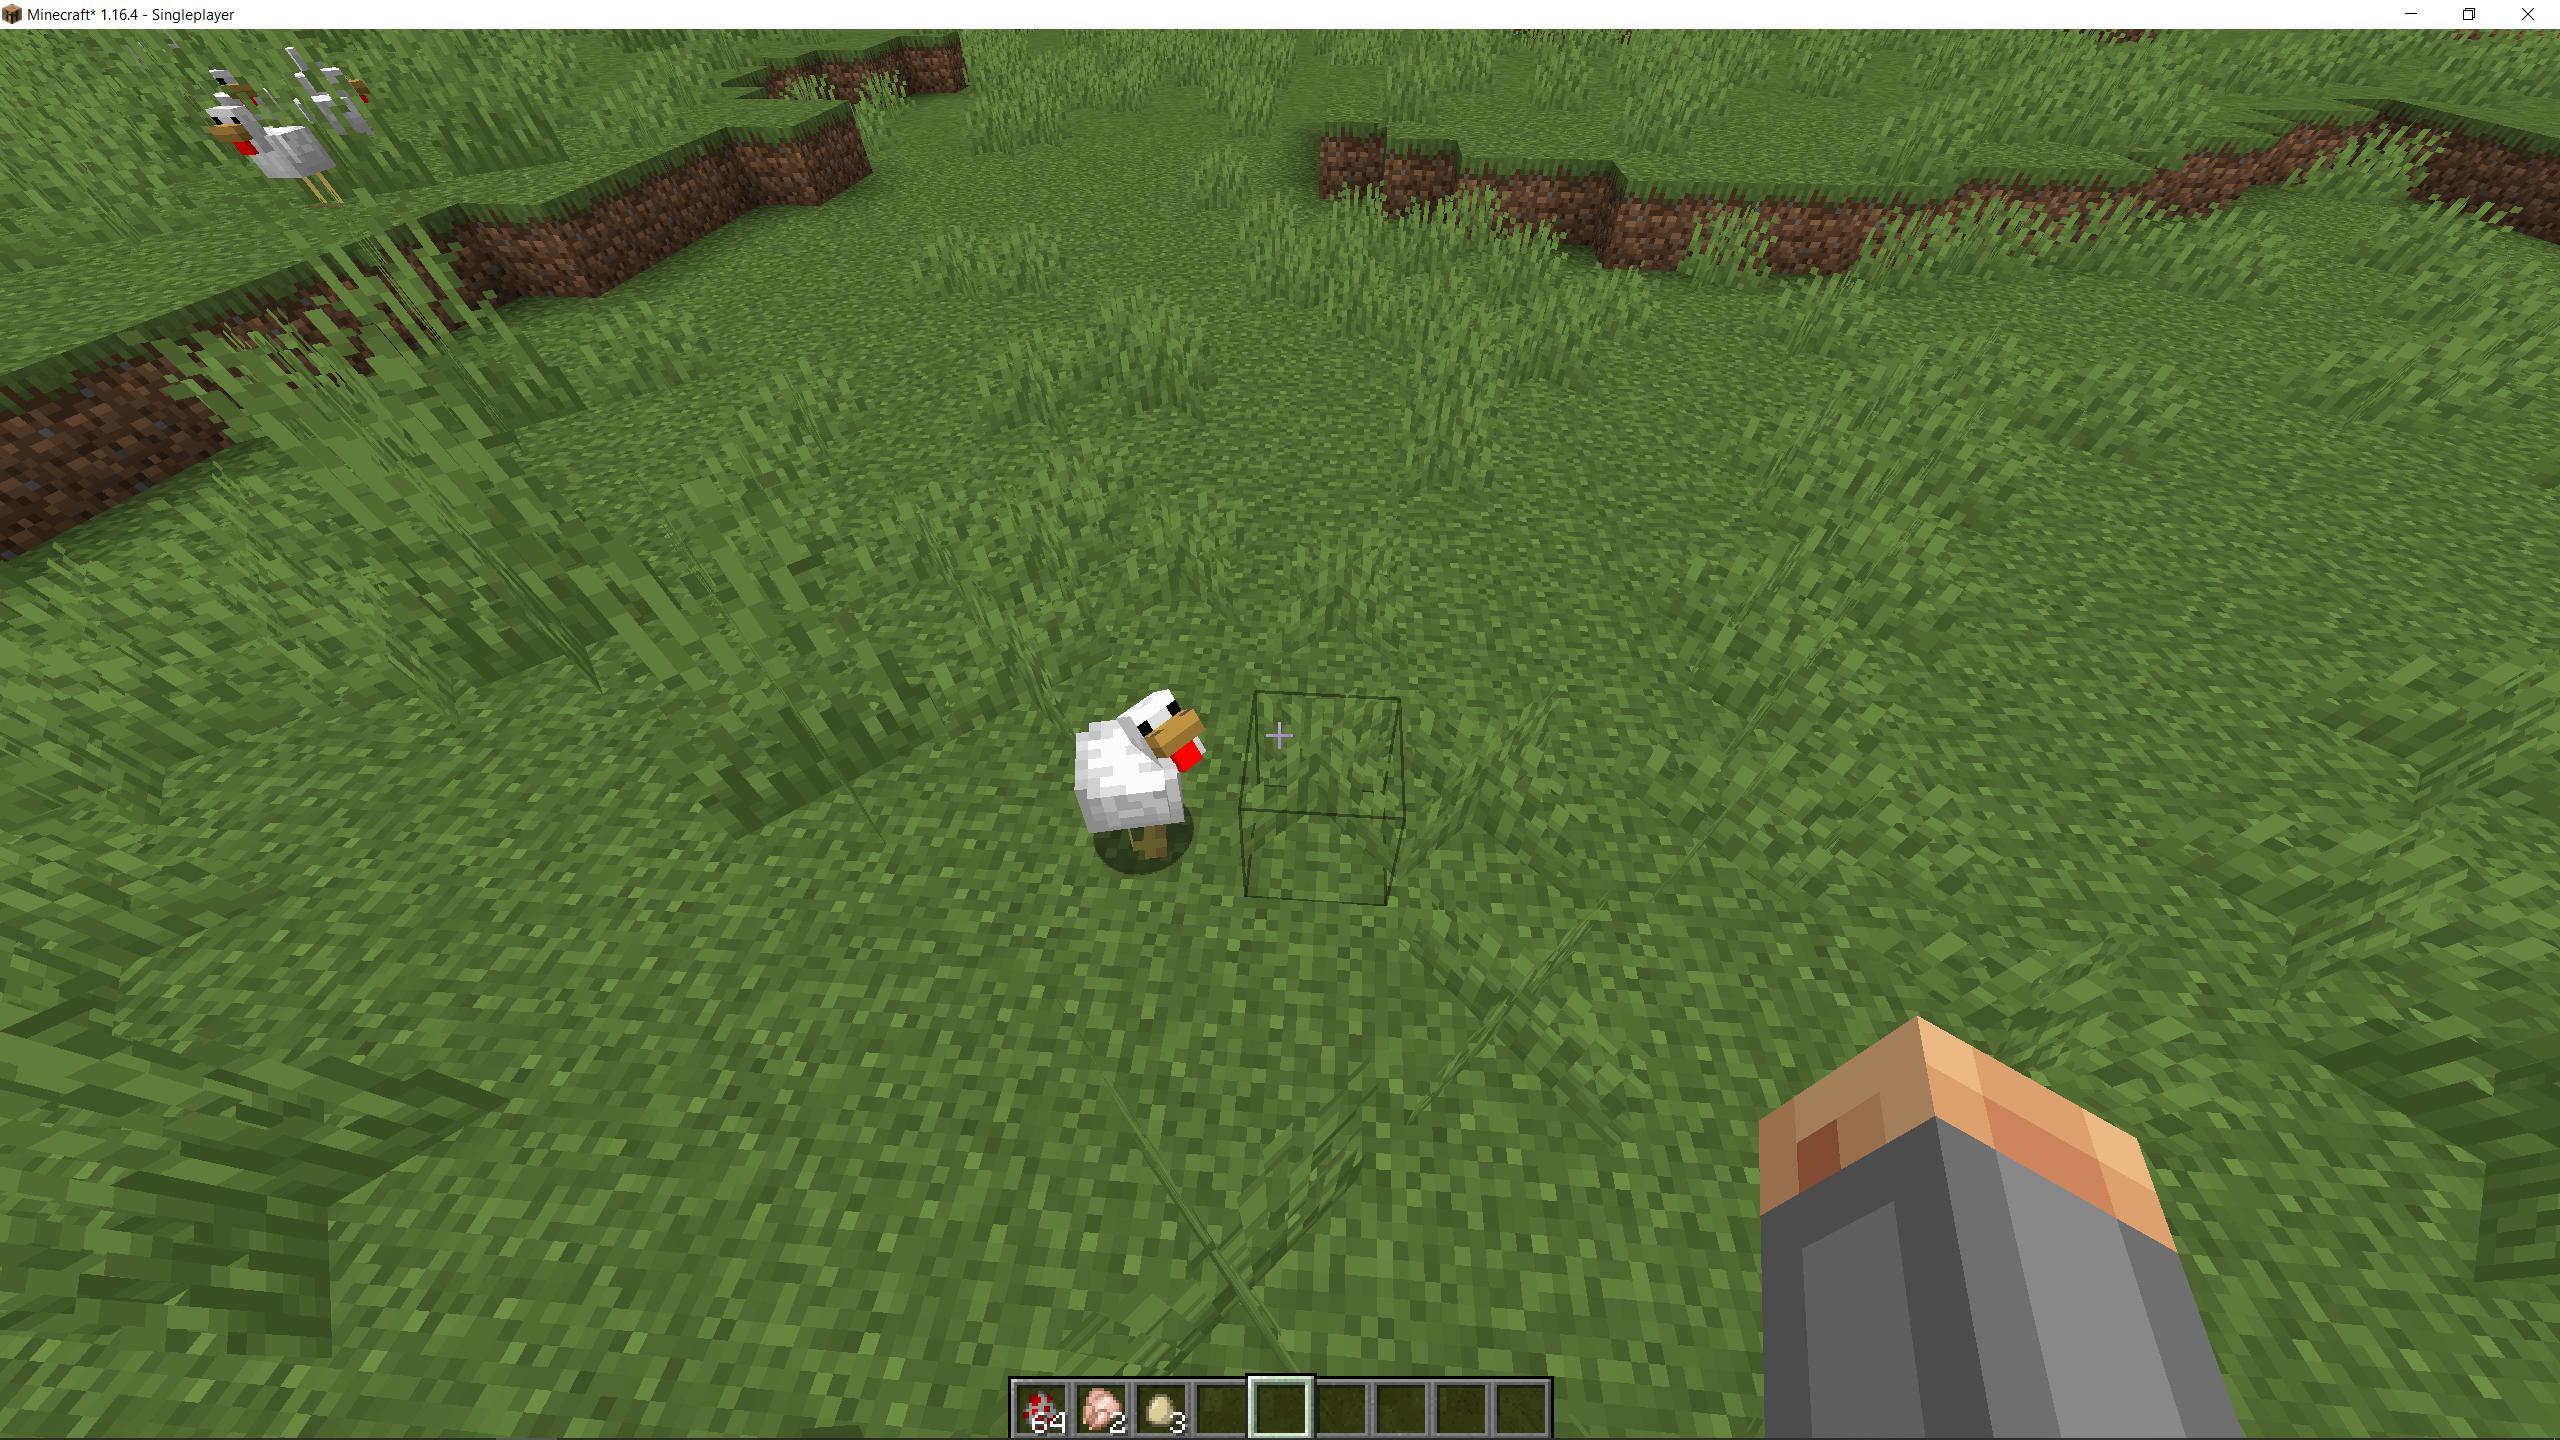chicken: (1044, 682, 1218, 870), (209, 98, 373, 213), (200, 53, 376, 128)
